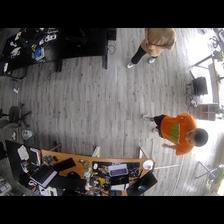normal: (142, 112, 208, 157), (126, 28, 177, 68)
